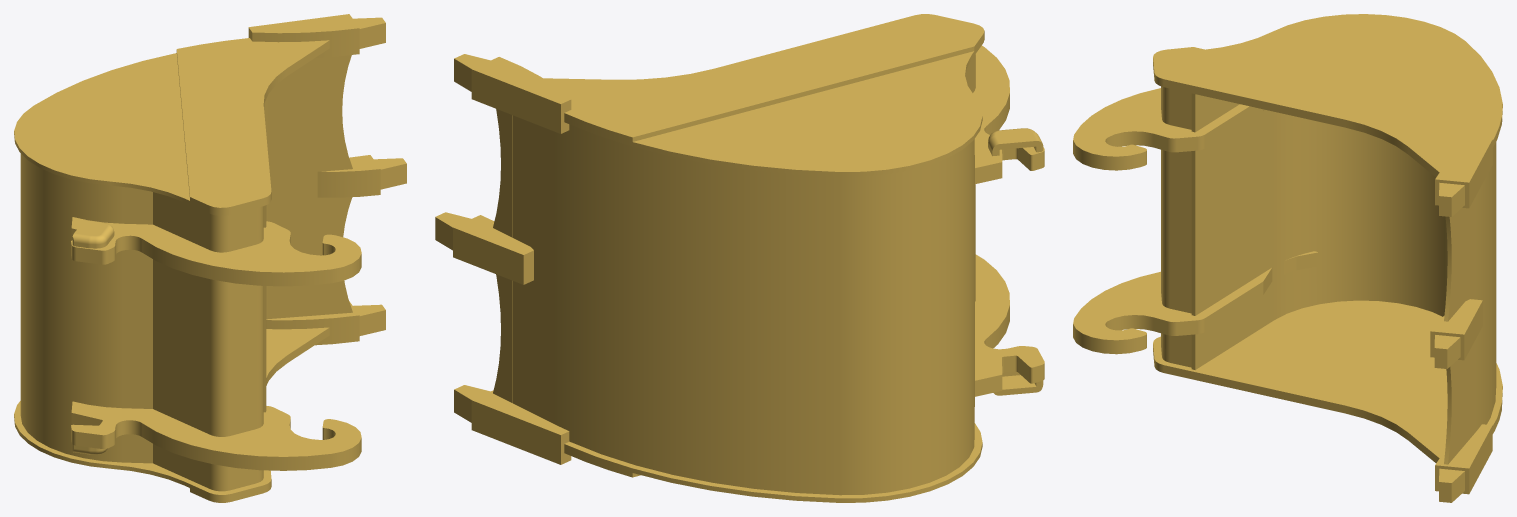
File: 365bucket.obj
3 views of the same model, side by side, from view 1: azimuth 30°, elevation 25°; view 2: azimuth 150°, elevation 25°; view 3: azimuth 270°, elevation 25° (orthographic). The views are drawn at different scales.
Parts seen in each view (by area): view 1: 365bucket\Bucket_mesh, 365bucket\Bucket_mesh (2); view 2: 365bucket\Bucket_mesh, 365bucket\Bucket_mesh (2); view 3: 365bucket\Bucket_mesh, 365bucket\Bucket_mesh (2).
Boxes of the visible parts, x1,y1,x2,y2 form: 365bucket\Bucket_mesh: [14, 14, 406, 502]; 365bucket\Bucket_mesh (2): [327, 55, 352, 314]; 365bucket\Bucket_mesh: [435, 14, 1044, 502]; 365bucket\Bucket_mesh (2): [493, 109, 512, 402]; 365bucket\Bucket_mesh: [1073, 14, 1502, 502]; 365bucket\Bucket_mesh (2): [1444, 213, 1456, 464].
Bounding box in the file's own units: 2252 × 1570 × 1962.
